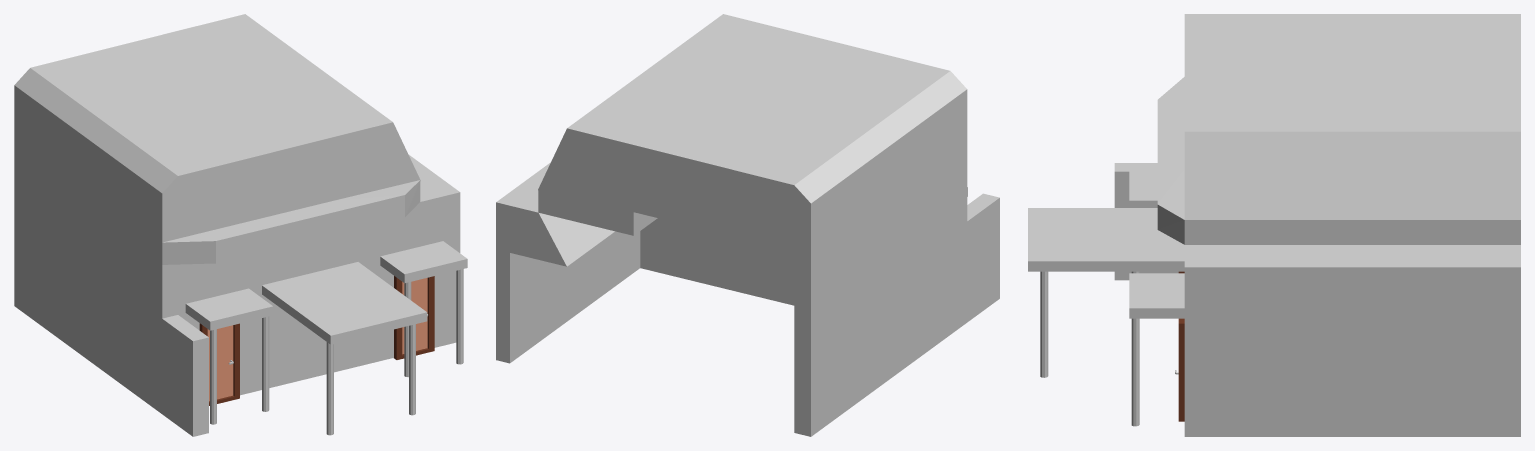
The model's file is house_2.dae.
3 renders of one model, left to right at view 1: azimuth 30°, elevation 25°; view 2: azimuth 150°, elevation 25°; view 3: azimuth 270°, elevation 25°, orthographic. The views are drawn at different scales.
Parts seen in each view (by area): view 1: Cube.031, Cube.034, Cube.033, Cube.036, Cylinder.010, Cylinder.011, Door.006, Cylinder.012, Door.007, Door.008, Door.005; view 2: Cube.031; view 3: Cube.031, Cube.034, Cube.036, Cube.033, Cylinder.012, Cylinder.011, Door.007.
Boxes of the visible parts, x1,y1,x2,y2 form: Cube.031: (14,14,460,436); Cube.034: (262,262,427,344); Cube.033: (185,288,273,330); Cube.036: (380,241,467,283); Cylinder.010: (210,316,269,424); Cylinder.011: (326,324,415,435); Door.006: (207,325,233,401); Cylinder.012: (404,269,463,377); Door.007: (394,276,434,359); Door.008: (402,278,427,354); Door.005: (199,323,239,405); Cube.031: (496,14,999,436); Cube.031: (1114,14,1520,436); Cube.034: (1028,208,1184,271); Cube.036: (1129,273,1184,318); Cube.033: (1129,165,1157,207); Cylinder.012: (1131,318,1139,426); Cylinder.011: (1040,271,1048,377); Door.007: (1178,318,1184,421).
Bounding box in the file's own units: 7.28 × 9.17 × 5.51.
